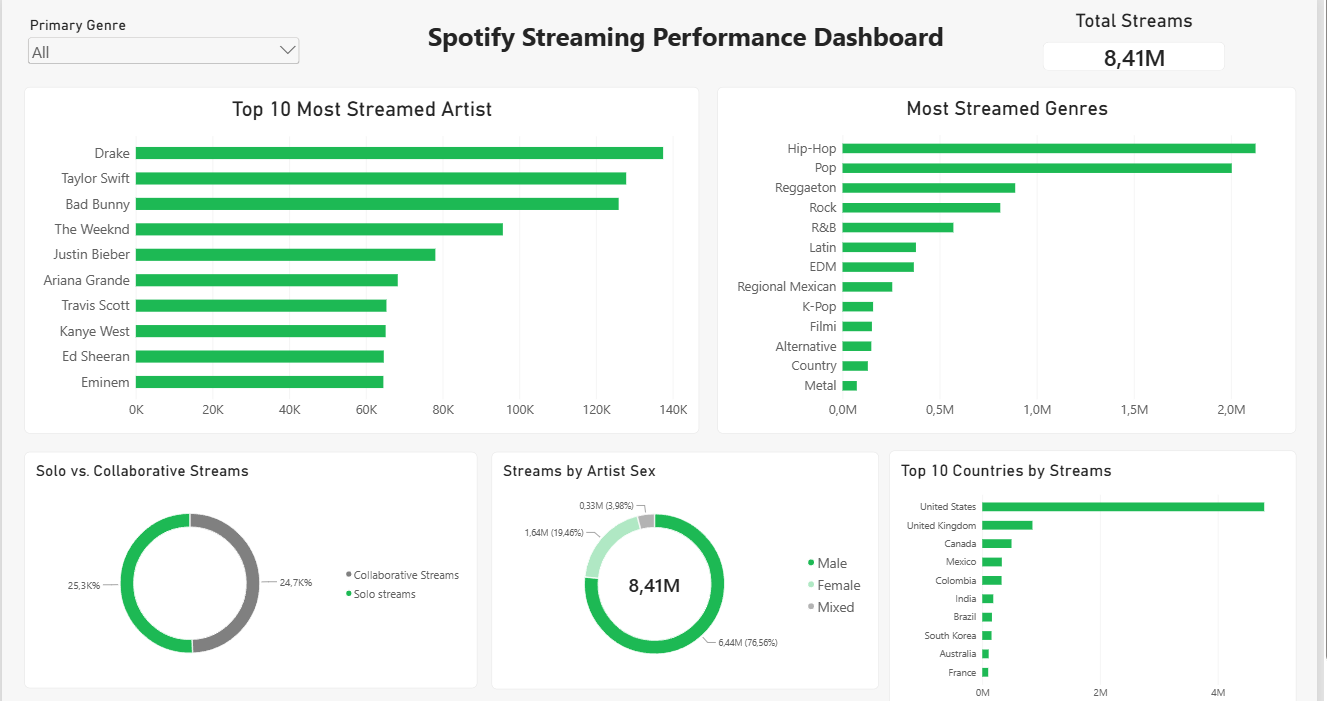

Layout of this report page (visuals, bound fields, positions):
{"tool":"powerbi","page":{"name":"Page 1","canvas":[1920,1080],"ordinal":0},"visuals":[{"type":"barChart","title":"Top 10 Most Streamed Artist","fields":{"Category":["Spotify Streaming Performance D.Artist Name"],"Y":["Sum(Spotify Streaming Performance D.Total Streams (in millions))"]},"box":[32.6,128.4,984.8,505.8],"z":0},{"type":"textbox","box":[554.3,29,888.4,65.7],"z":1000},{"type":"clusteredBarChart","title":"Most Streamed Genres","fields":{"Category":["Spotify Streaming Performance D.Primary Genre"],"Y":["Sum(Spotify Streaming Performance D.Total Streams (in millions))"]},"box":[1044.2,128.4,844.9,505.8],"z":2000},{"type":"cardVisual","title":"Total Streams","fields":{"Data":["Sum(Spotify Streaming Performance D.Total Streams (in millions))"]},"box":[1519.3,15.3,266.3,90],"z":3000},{"type":"donutChart","title":"Streams by Artist Sex","fields":{"Y":["Sum(Spotify Streaming Performance D.Total Streams (in millions))"],"Category":["Spotify Streaming Performance D.Sex"]},"box":[714.6,661,565.2,346.8],"z":4000},{"type":"slicer","title":"Primay Language","fields":{"Values":["Spotify Streaming Performance D.Primary Genre"]},"box":[32.6,24.9,406.2,69],"z":5000},{"type":"donutChart","title":"Solo vs. Collaborative Streams","fields":{"Y":["Sum(Spotify Streaming Performance D.% Collaborative Streams)","Sum(Spotify Streaming Performance D.% Solo streams)"]},"box":[32.6,661,661,344.9],"z":6000},{"type":"barChart","title":"Top 10 Countries by Streams","fields":{"Category":["Spotify Streaming Performance D.Country of Origin"],"Y":["Sum(Spotify Streaming Performance D.Total Streams (in millions))"]},"box":[1295.1,659.1,593.9,387],"z":7000}]}

Visuals, with their boxes on the page's 1920x1080 design canvas (x1, y1, x2, y2). These are canvas units, not pixel positions in the 1327x701 screenshot, which may show the page scaled, cropped or inside an application window:
"Top 10 Most Streamed Artist" barChart: l=33, t=128, r=1017, b=634
textbox: l=554, t=29, r=1443, b=95
"Most Streamed Genres" clusteredBarChart: l=1044, t=128, r=1889, b=634
"Total Streams" cardVisual: l=1519, t=15, r=1786, b=105
"Streams by Artist Sex" donutChart: l=715, t=661, r=1280, b=1008
"Primay Language" slicer: l=33, t=25, r=439, b=94
"Solo vs. Collaborative Streams" donutChart: l=33, t=661, r=694, b=1006
"Top 10 Countries by Streams" barChart: l=1295, t=659, r=1889, b=1046
